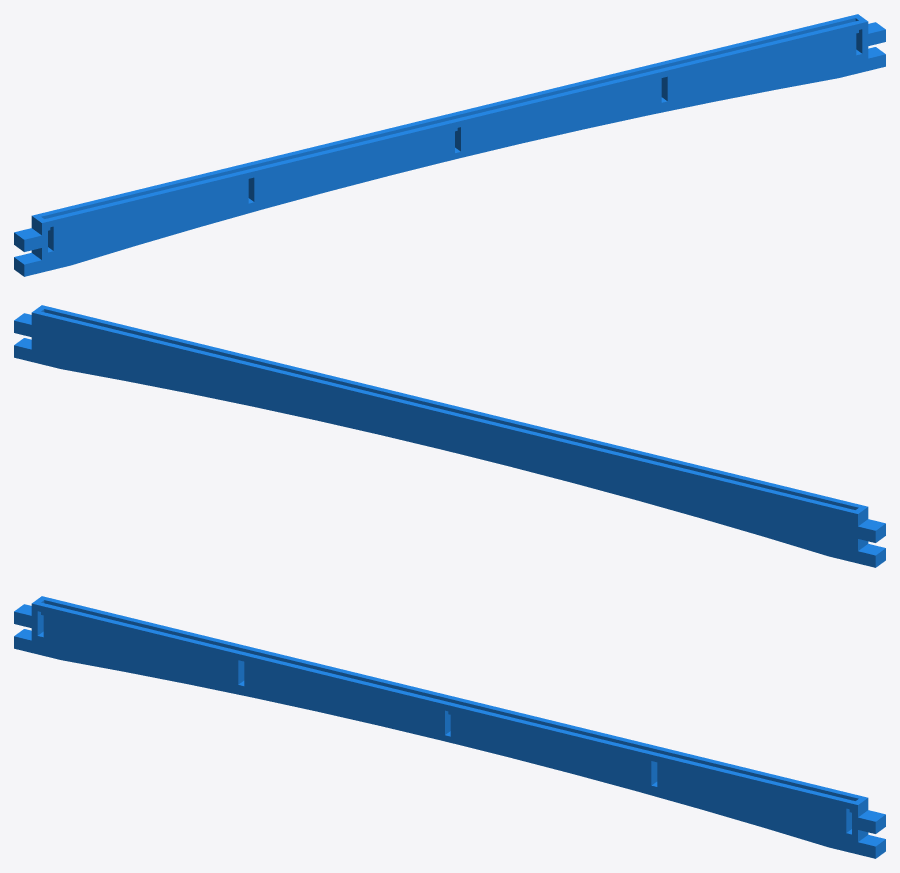
The model's file is original-13.obj.
3 renders of one model, top to bottom at view 1: azimuth 30°, elevation 25°; view 2: azimuth 150°, elevation 25°; view 3: azimuth 330°, elevation 25°, orthographic.
Visible parts, largest first — view 1: Bottom_Front2/Bottom_Front12/mesh21/mesh21-geometry#mesh21-geome; view 2: Bottom_Front2/Bottom_Front12/mesh21/mesh21-geometry#mesh21-geome; view 3: Bottom_Front2/Bottom_Front12/mesh21/mesh21-geometry#mesh21-geome.
Part boxes in pixels (x1,y1,x2,y2): Bottom_Front2/Bottom_Front12/mesh21/mesh21-geometry#mesh21-geome: [14, 14, 885, 276]; Bottom_Front2/Bottom_Front12/mesh21/mesh21-geometry#mesh21-geome: [14, 305, 885, 567]; Bottom_Front2/Bottom_Front12/mesh21/mesh21-geometry#mesh21-geome: [14, 596, 885, 858].
Size of the model in its own units: 1.6 by 0.0874 by 0.0328.
